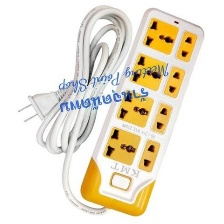three_eye_plug: (75, 5, 209, 220)
